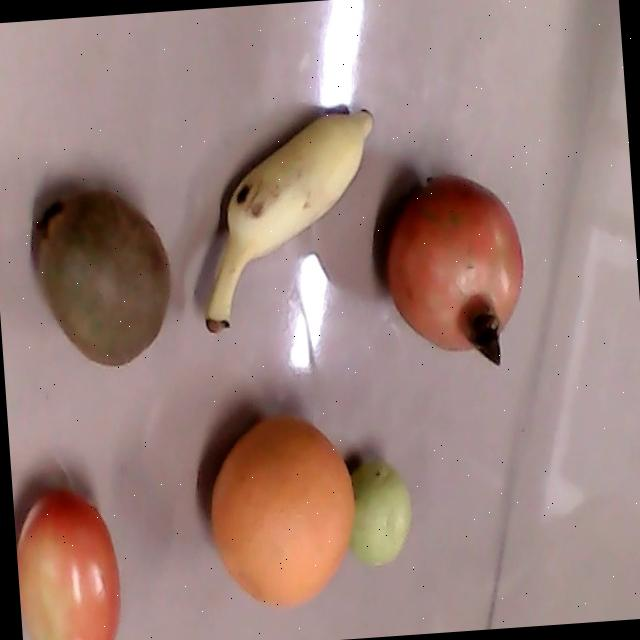kiwi: (35, 186, 170, 365)
lemon: (349, 459, 410, 565)
orange: (209, 413, 353, 606)
pomegranate: (387, 172, 522, 365)
tomato: (16, 488, 120, 640)
